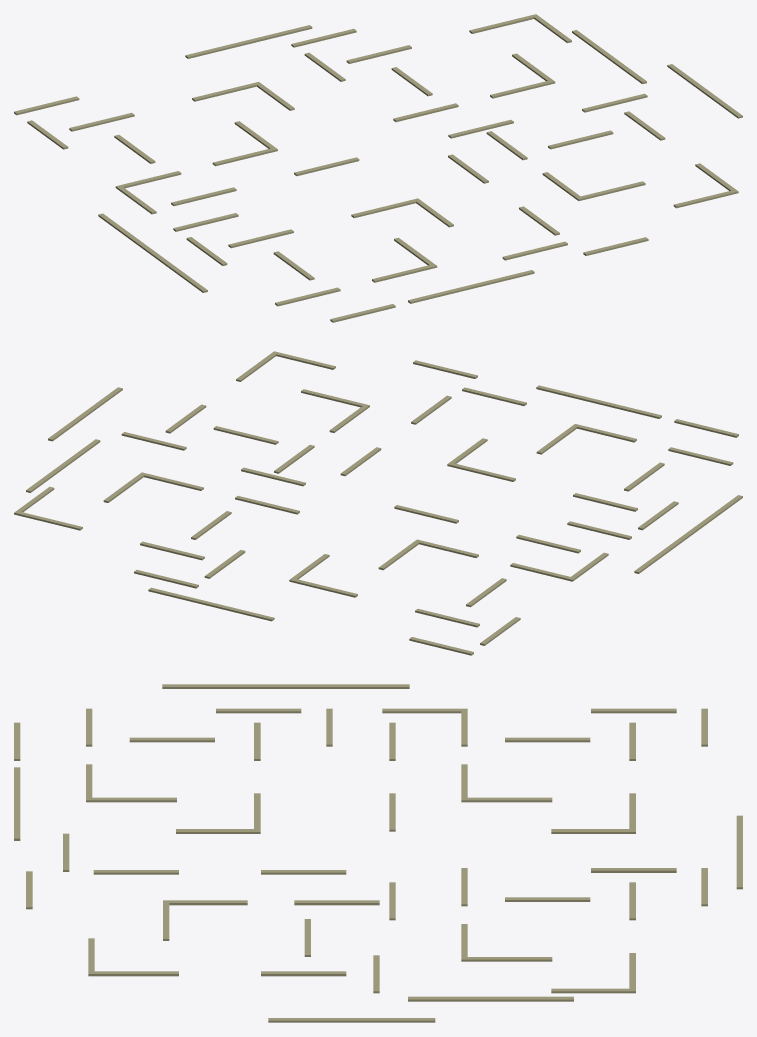
Rendered from baseboard.glb.
3 renders of one model, top to bottom at view 1: azimuth 30°, elevation 25°; view 2: azimuth 150°, elevation 25°; view 3: azimuth 270°, elevation 25°, orthographic. The views are drawn at different scales.
Visible parts, largest first — view 1: baseboard; view 2: baseboard; view 3: baseboard.
Boxes of the visible parts, x1,y1,x2,y2 form: baseboard: (14,14,742,322); baseboard: (14,351,742,655); baseboard: (14,684,742,1022).
Bounding box in the file's own units: 172 × 0.4919 × 158.
